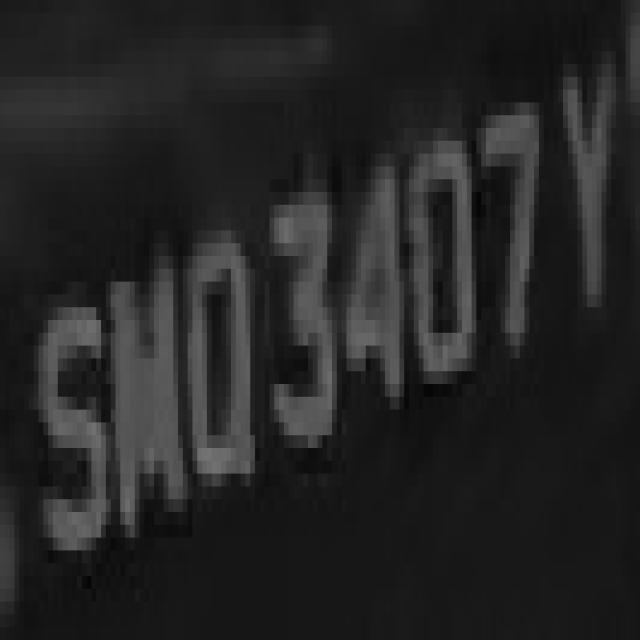0: (399, 90, 467, 410)
3: (260, 116, 346, 487)
4: (327, 90, 409, 460)
7: (457, 51, 544, 384)
M: (96, 230, 188, 550)
Q: (168, 192, 255, 525)
S: (24, 282, 101, 563)
Y: (539, 51, 626, 346)
